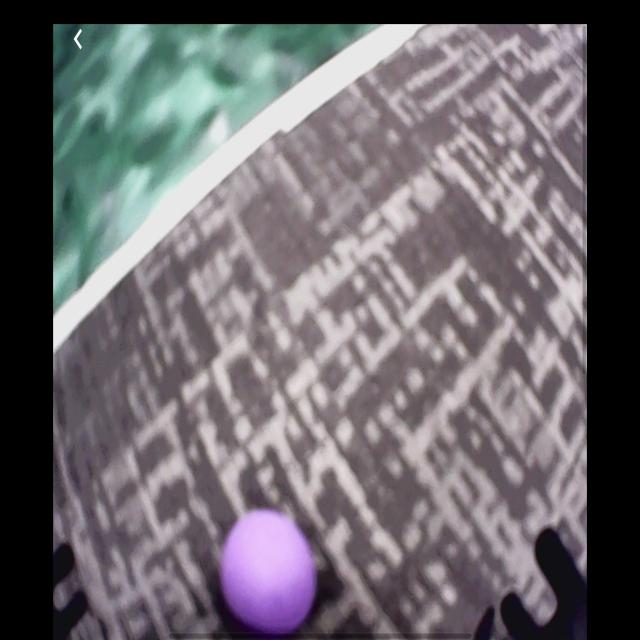ball: (221, 509, 318, 636)
